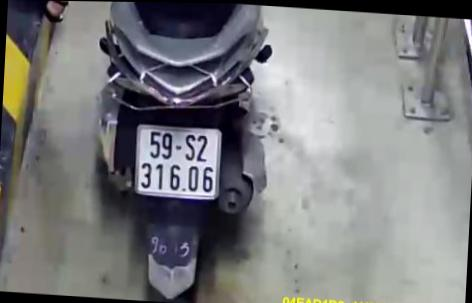LP: (126, 114, 226, 207)
